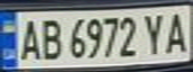2: (118, 12, 142, 60)
6: (63, 15, 87, 60)
7: (100, 14, 121, 58)
9: (81, 13, 106, 60)
A: (160, 8, 193, 55), (15, 16, 42, 62)
B: (36, 15, 63, 61)
Y: (139, 10, 169, 56)
